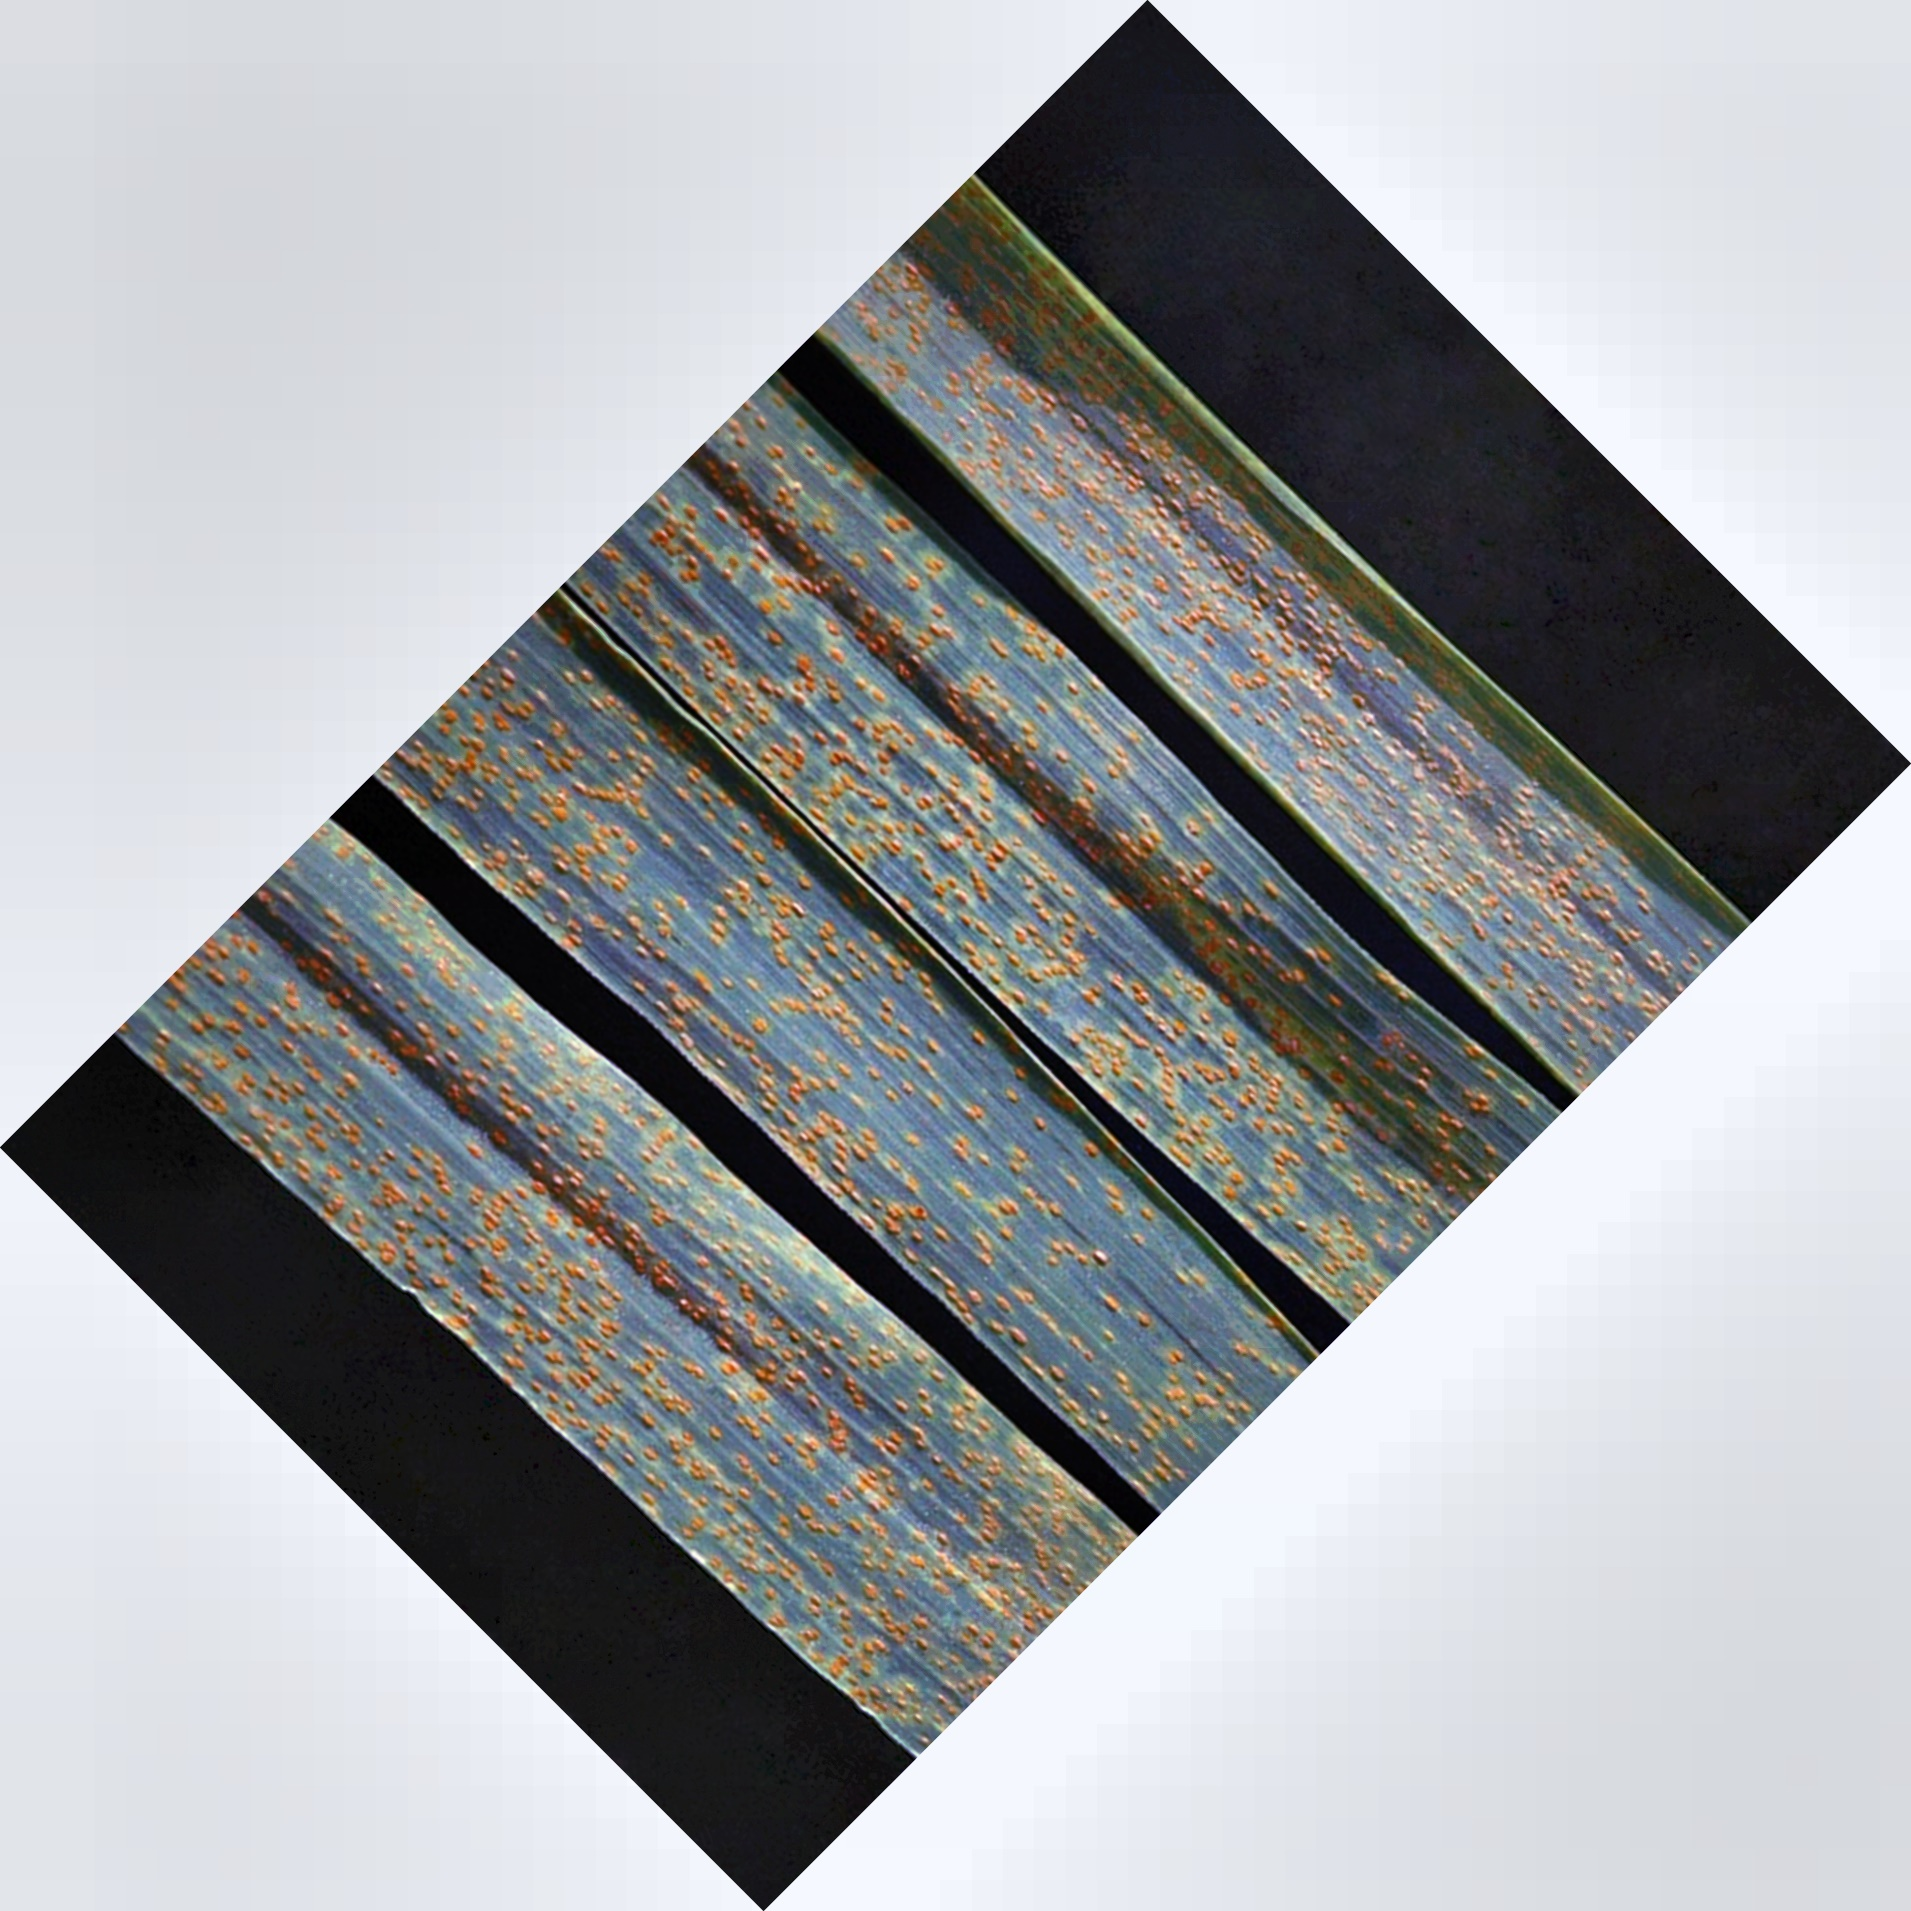Leaf Rust: (157, 940, 1034, 1596), (646, 395, 1510, 857)
